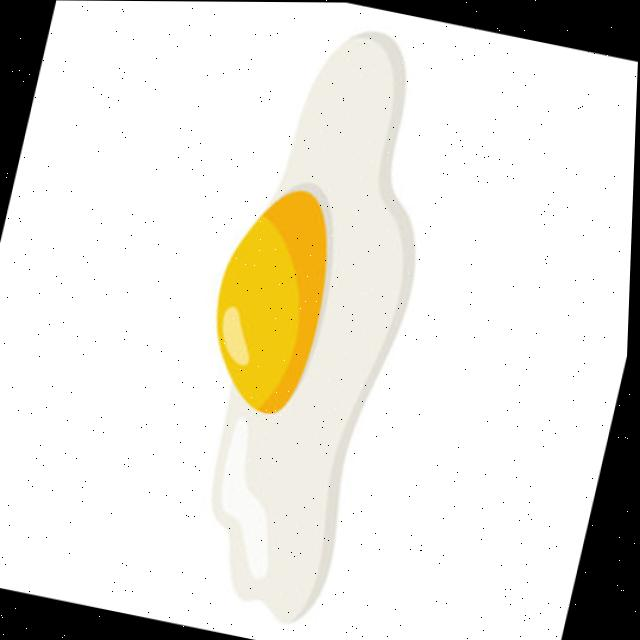Egg: (218, 31, 414, 619)
